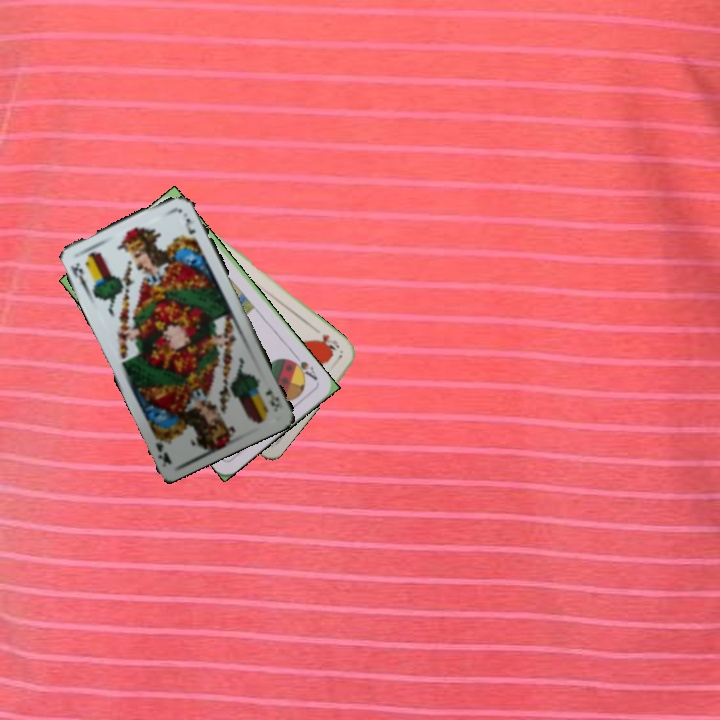EK: (66, 259, 92, 295), (261, 385, 284, 414)
HO: (313, 330, 342, 355)
SA: (286, 351, 320, 383)
